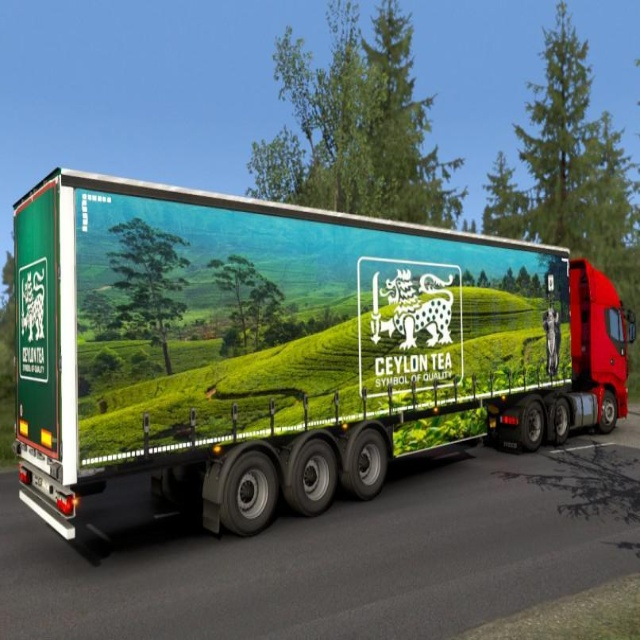Truck: (11, 166, 635, 540)
